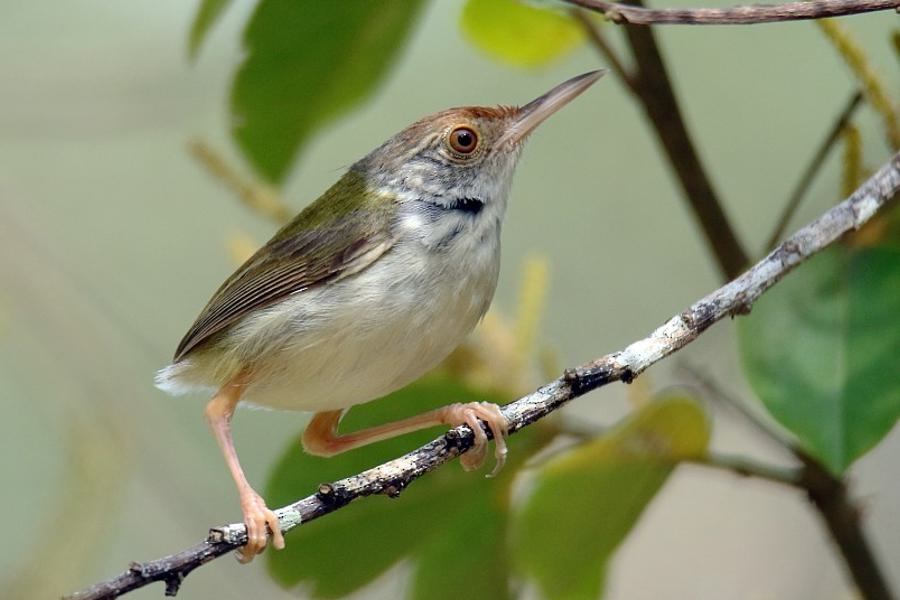tailorbird: (174, 64, 620, 554)
